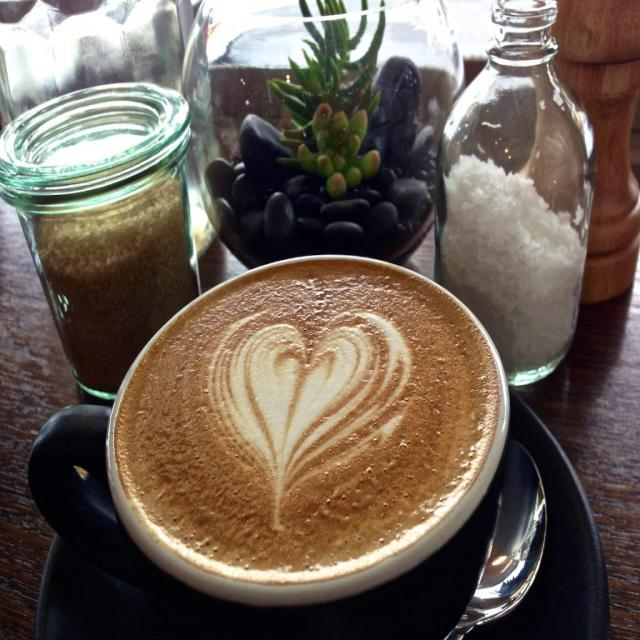latte: (106, 253, 511, 602)
